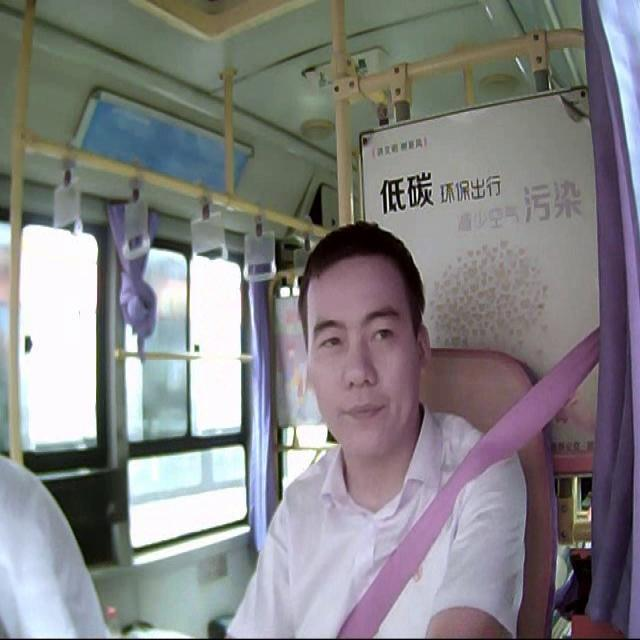Attentive: (279, 222, 439, 458)
Eye-Open: (321, 331, 344, 352), (372, 326, 394, 346)
Normal: (344, 400, 386, 424)
